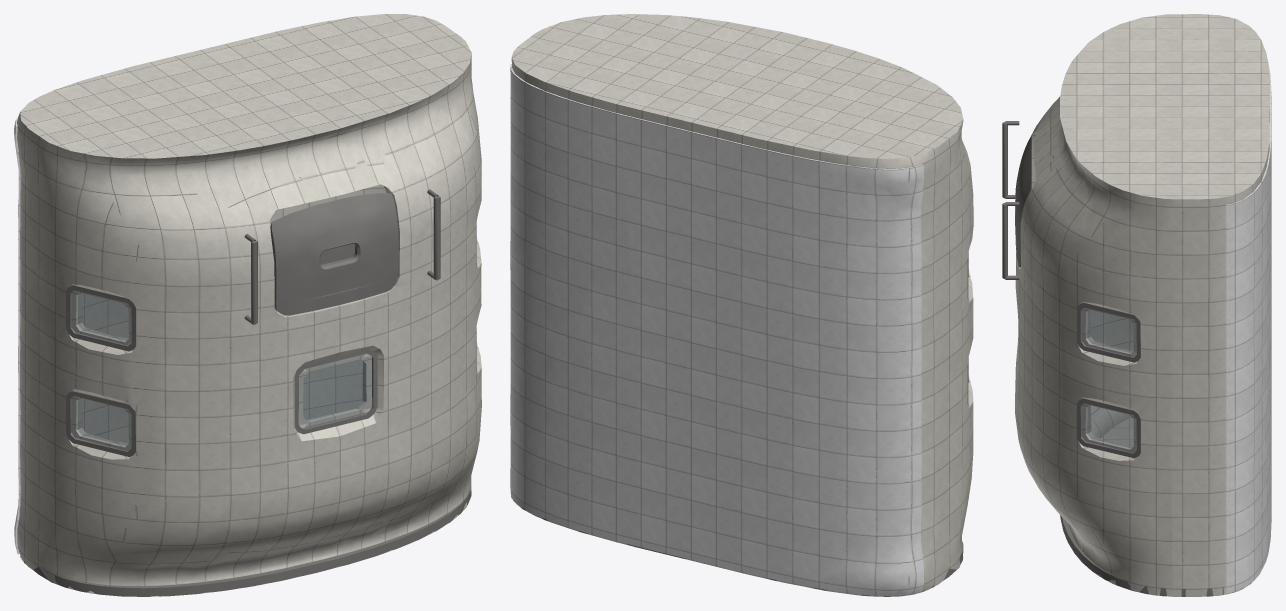
File: ax_aero_03_ck2i_cockpit.glb
The picture shows the model from 3 angles, left to right: view 1: azimuth 30°, elevation 25°; view 2: azimuth 150°, elevation 25°; view 3: azimuth 270°, elevation 25°; orthographic projection. The views are drawn at different scales.
Parts seen in each view (by area): view 1: fuselage, hatch_door_1, window_glass, aft_frame, window_frames, hatch_rails_1, belly_tiles; view 2: belly_tiles, fuselage; view 3: fuselage, belly_tiles, window_glass, window_frames, hatch_door_1, hatch_rails_1, aft_frame.
Part boxes in pixels (left/top/right/bottom): fuselage: left=17, top=14, right=481, bottom=596; hatch_door_1: left=270, top=193, right=398, bottom=315; window_glass: left=71, top=291, right=371, bottom=450; aft_frame: left=20, top=490, right=470, bottom=596; window_frames: left=66, top=224, right=476, bottom=456; hatch_rails_1: left=244, top=189, right=440, bottom=325; belly_tiles: left=14, top=115, right=20, bottom=554; belly_tiles: left=510, top=64, right=924, bottom=596; fuselage: left=511, top=14, right=973, bottom=596; fuselage: left=1015, top=14, right=1269, bottom=596; belly_tiles: left=1226, top=59, right=1271, bottom=593; window_glass: left=1082, top=308, right=1136, bottom=452; window_frames: left=1076, top=302, right=1140, bottom=458; hatch_door_1: left=1015, top=136, right=1031, bottom=267; hatch_rails_1: left=1002, top=121, right=1019, bottom=279; aft_frame: left=1060, top=515, right=1251, bottom=596.
Bounding box in the file's own units: 2.51 × 2.5 × 1.53.
4 materials, 3 textured.
